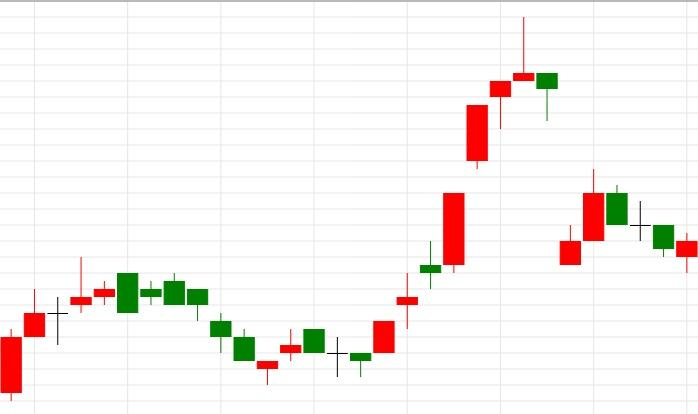bearish_engulfing_fall: (0, 257, 139, 401)
